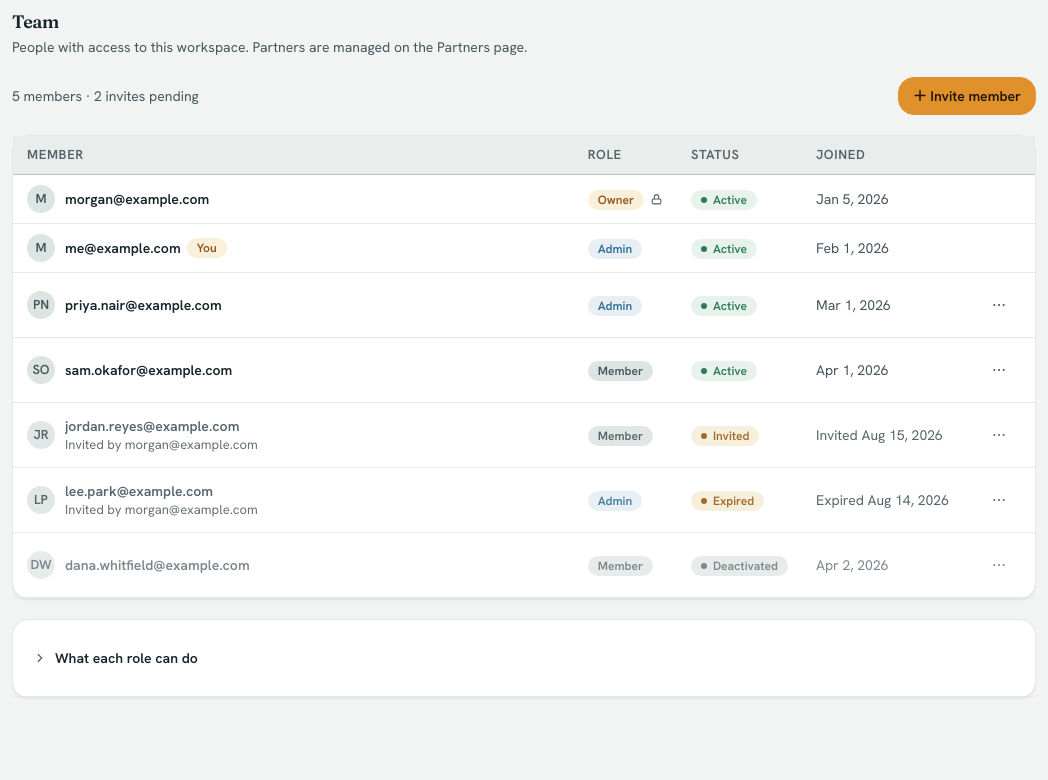
Test: TM-08/TM-09: seat lifecycle dialogs › a deactivated seat offers Reactivate instead of Change role / Deactivate
Click the button named "Actions for dana.whitfield@example.com" at [999, 565], box [977,543,1021,587]
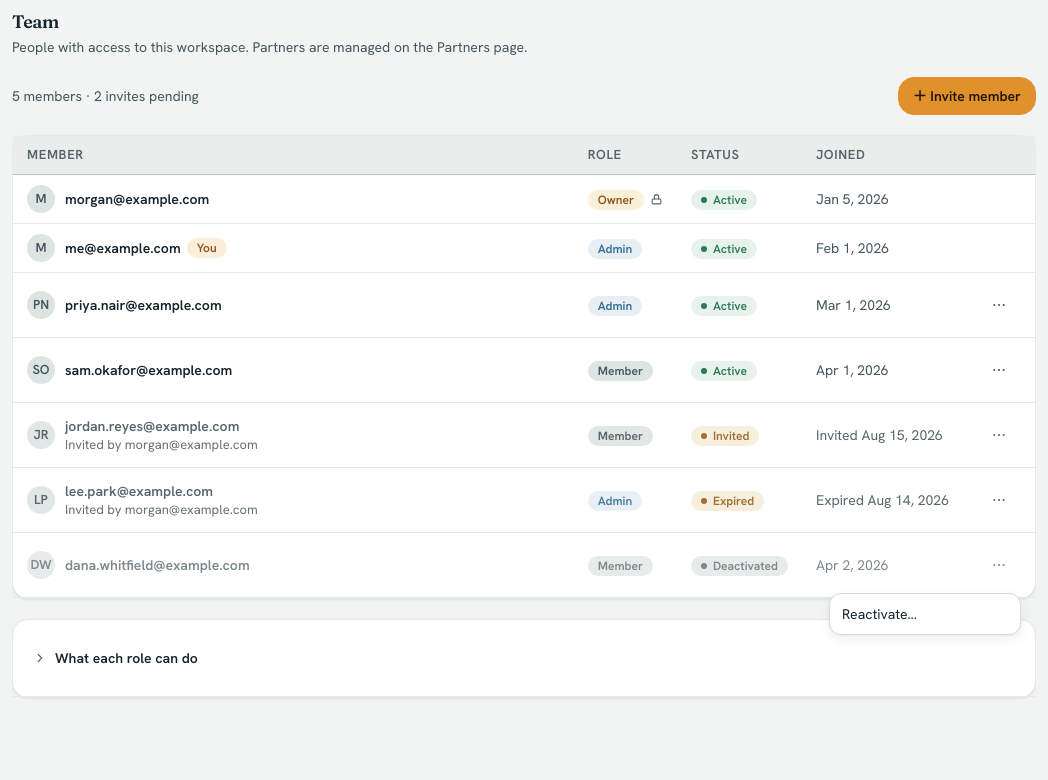
expect the menu item "Reactivate…" is shown: met, box [842,605,917,623]
